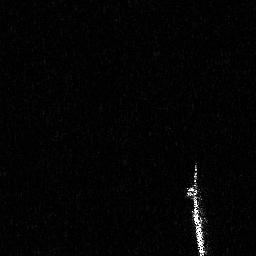ship: (183, 159, 211, 256)
